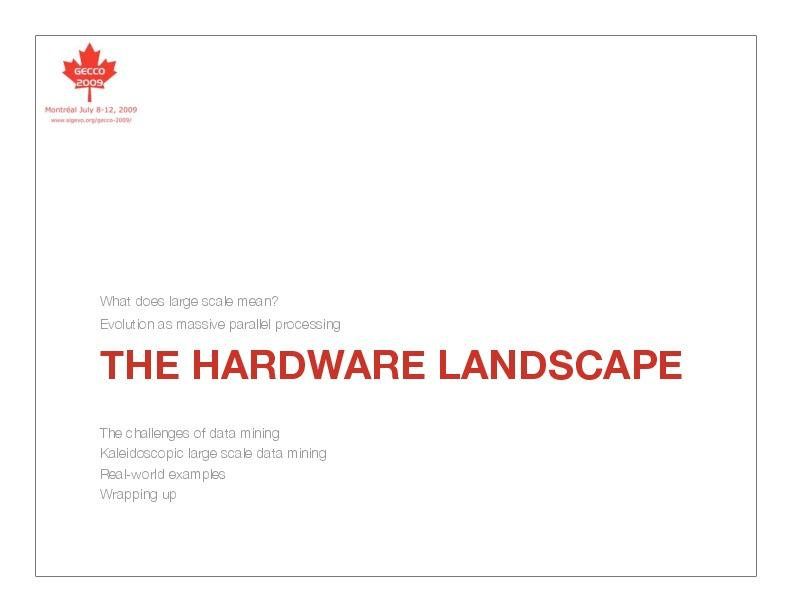title: (89, 338, 710, 408)
